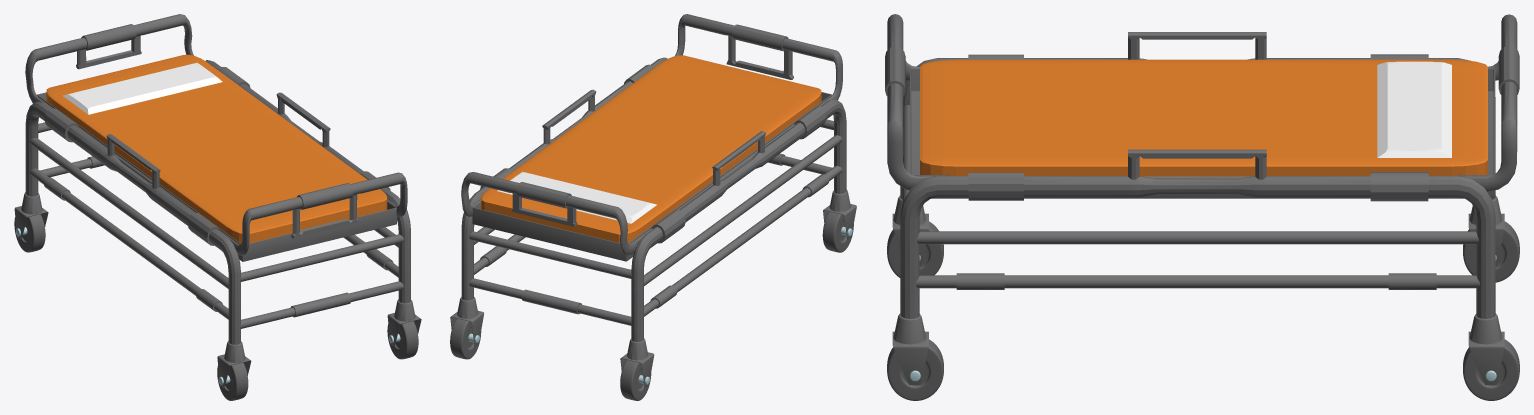
Rendered from HospitalGurneyblend.fbx.
The picture shows the model from 3 angles, left to right: view 1: azimuth 30°, elevation 25°; view 2: azimuth 150°, elevation 25°; view 3: azimuth 270°, elevation 25°; orthographic projection. The views are drawn at different scales.
Visible parts, largest first — view 1: Gurney (No Wireframe); view 2: Gurney (No Wireframe); view 3: Gurney (No Wireframe).
Part boxes in pixels (bbox=[...]): Gurney (No Wireframe): bbox=[14, 14, 421, 400]; Gurney (No Wireframe): bbox=[450, 14, 856, 400]; Gurney (No Wireframe): bbox=[885, 14, 1519, 400].
Size of the model in its own units: 100 by 95.25 by 198.
